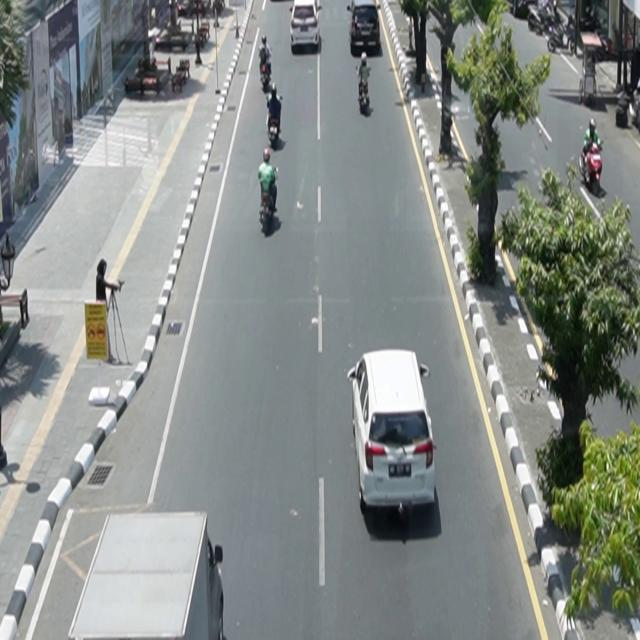car: (348, 349, 437, 518), (347, 1, 381, 54), (290, 1, 322, 53)
